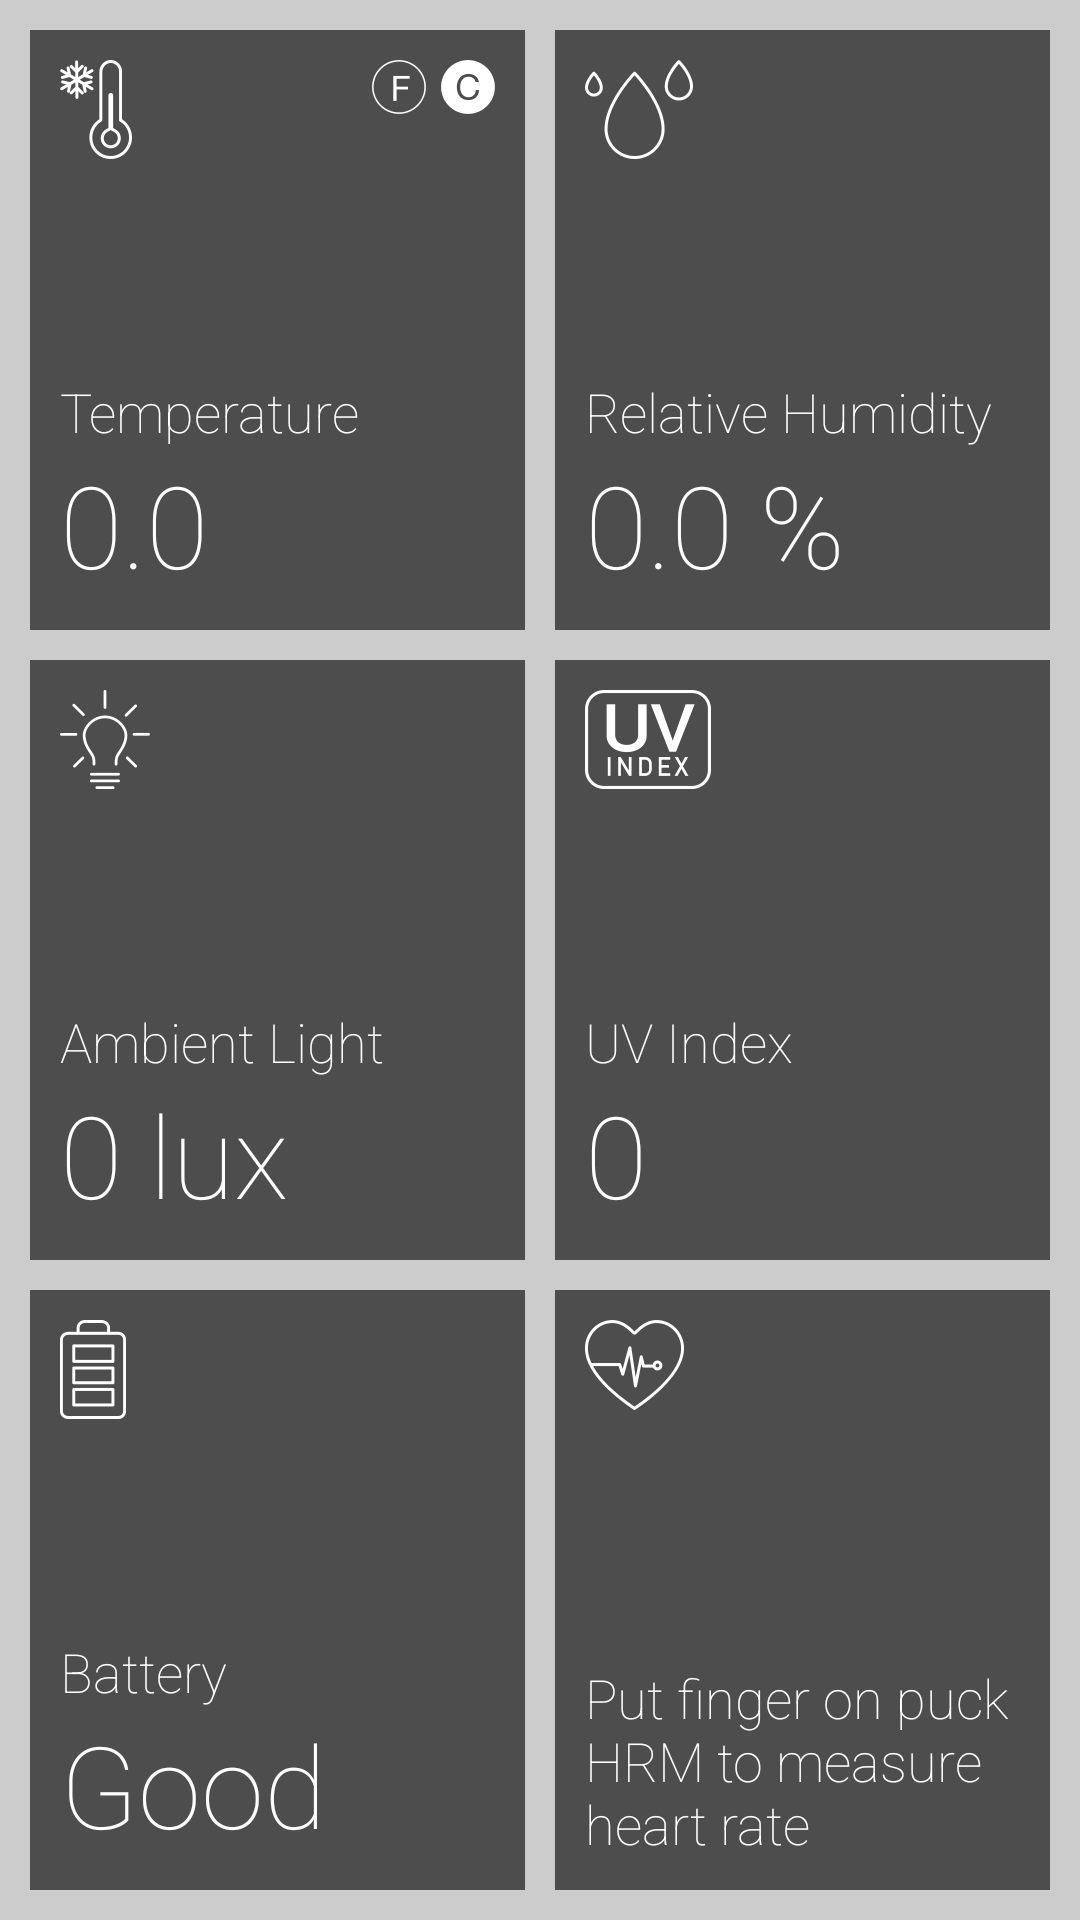

Named icons in this screenshot (1080×1920) and their centers, (x,y):
battery: (93,1369)
celsius: (468,87)
fahrenheit: (399,87)
heartrate: (634,1365)
humidy: (639,109)
temperature: (96,109)
